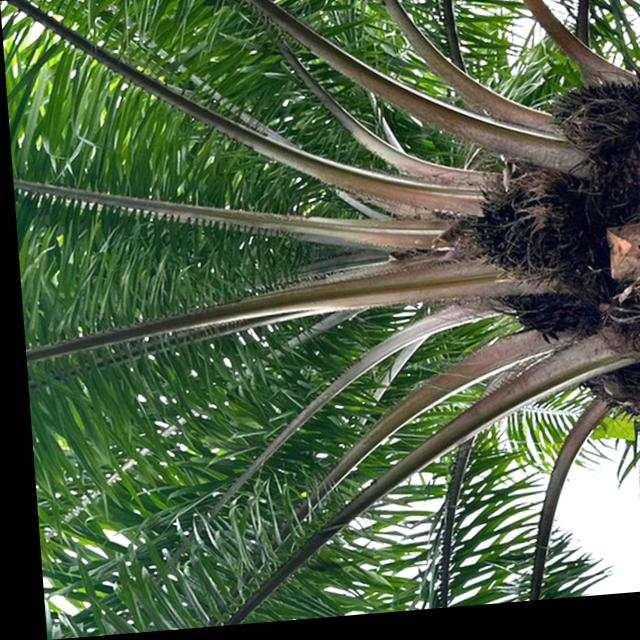unripe: (452, 176, 587, 306)
